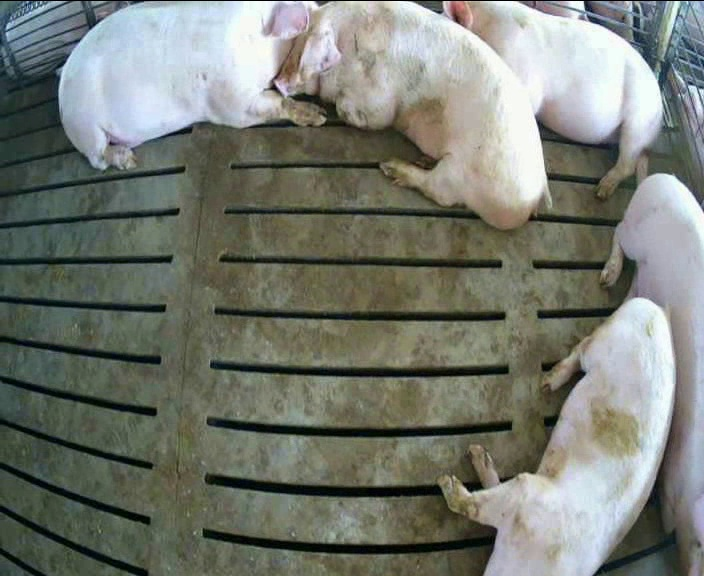pig: (438, 298, 674, 574), (274, 3, 550, 228), (59, 2, 325, 168), (444, 2, 661, 197), (601, 174, 703, 574)
